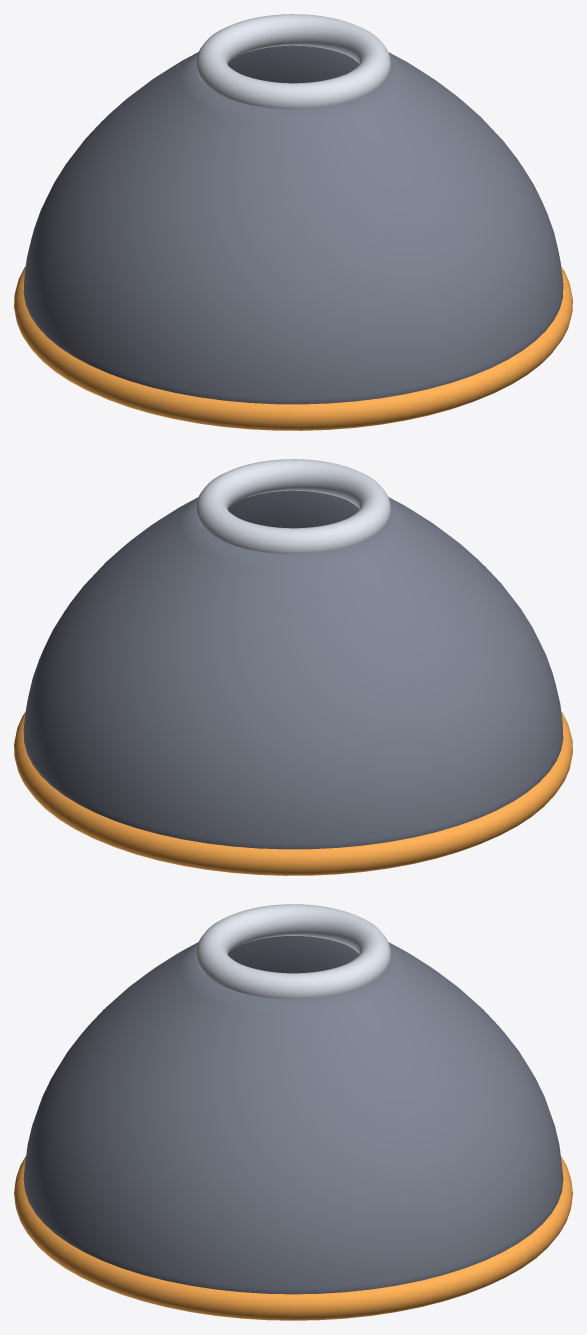
File: bell.glb
3 views of the same model, one above another, from view 1: azimuth 30°, elevation 25°; view 2: azimuth 150°, elevation 25°; view 3: azimuth 270°, elevation 25° (orthographic).
Parts seen in each view (by area): view 1: Bell; view 2: Bell; view 3: Bell.
Part boxes in pixels (x1=…): Bell: x1=14, y1=14, x2=572, y2=430; Bell: x1=14, y1=459, x2=572, y2=875; Bell: x1=14, y1=904, x2=572, y2=1320.
Bounding box in the file's own units: 2.12 × 1.12 × 2.12.
